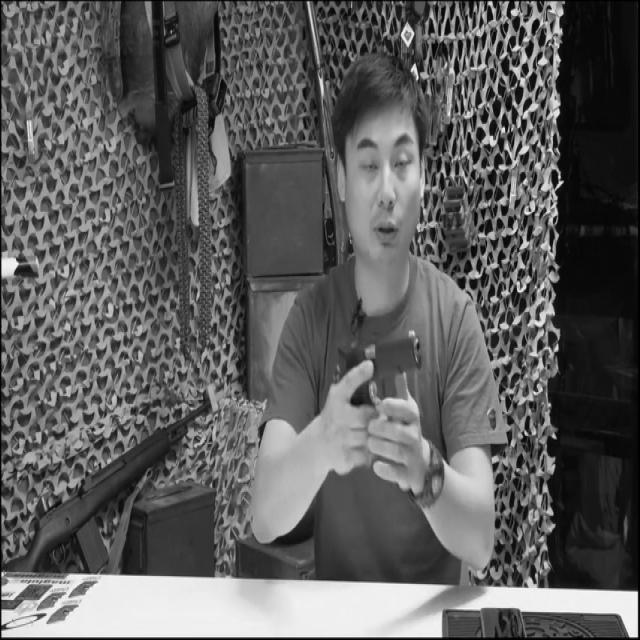Hand-Gun: (314, 228, 454, 498)
